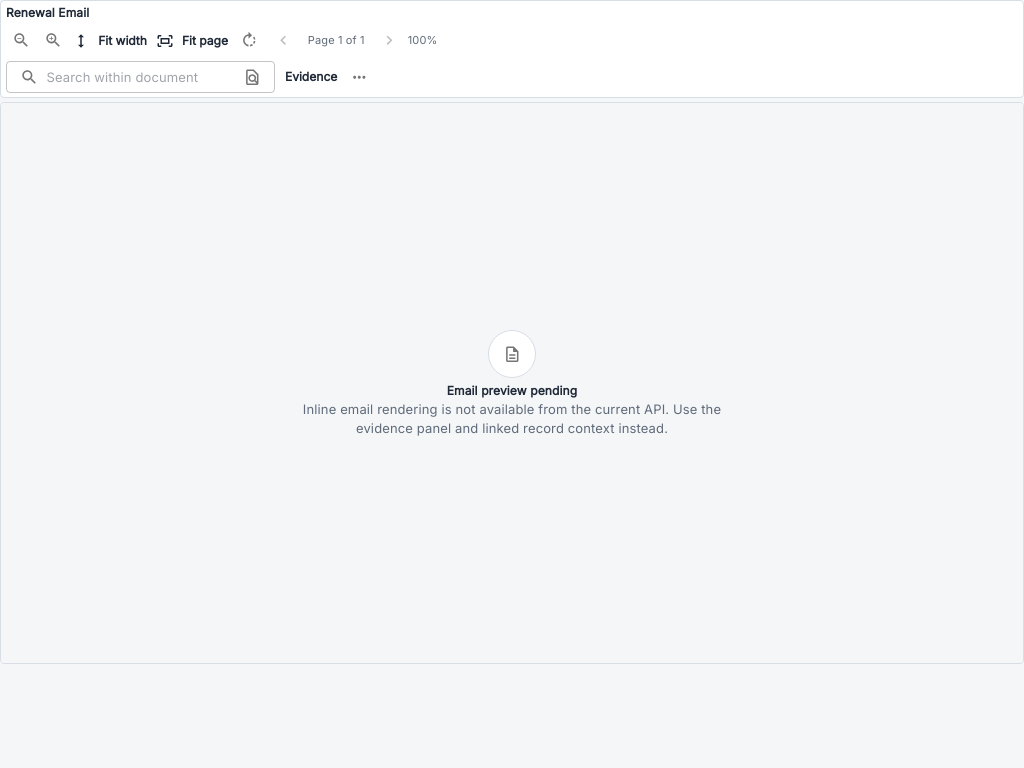
EnterpriseDocumentViewer › opens the mobile evidence sheet from the toolbar
Click the button "Evidence" at [311, 77], box [279,61,343,93]
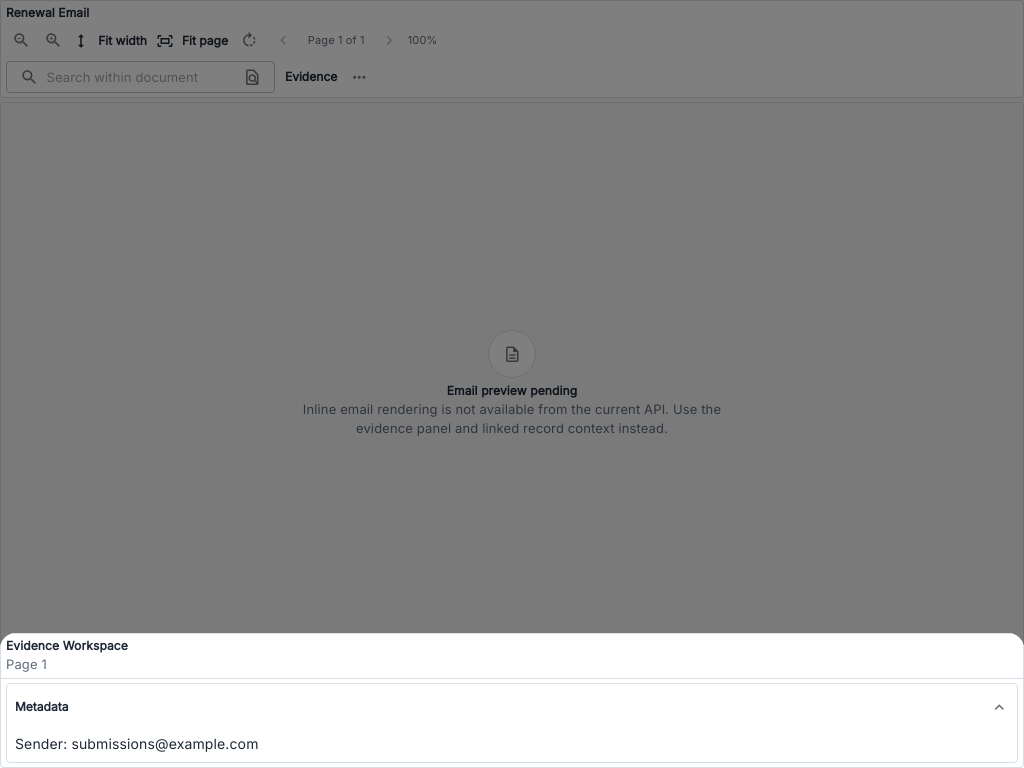
Check: the text "Sender: submissions@example.com" is shown, box [15,735,258,752]
